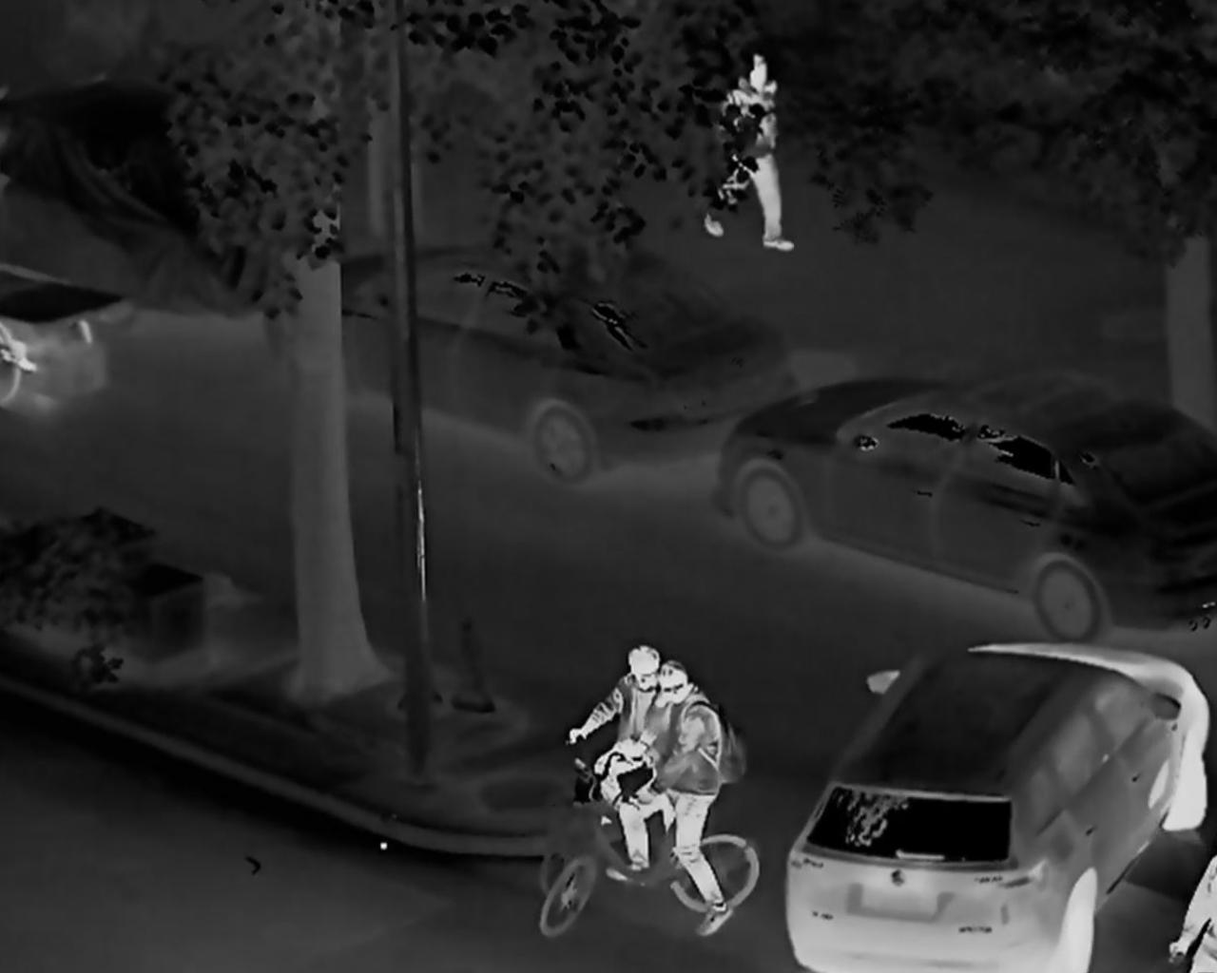person: (621, 665, 731, 948), (582, 639, 666, 868), (711, 45, 795, 255)
